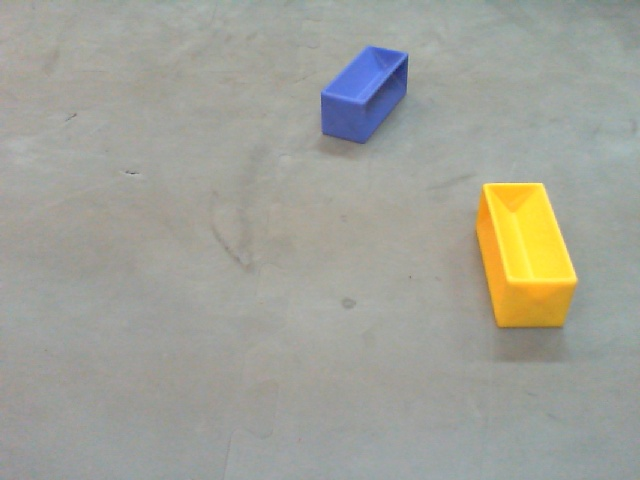BlueSample: (318, 43, 412, 148)
YellowSample: (472, 175, 582, 337)
